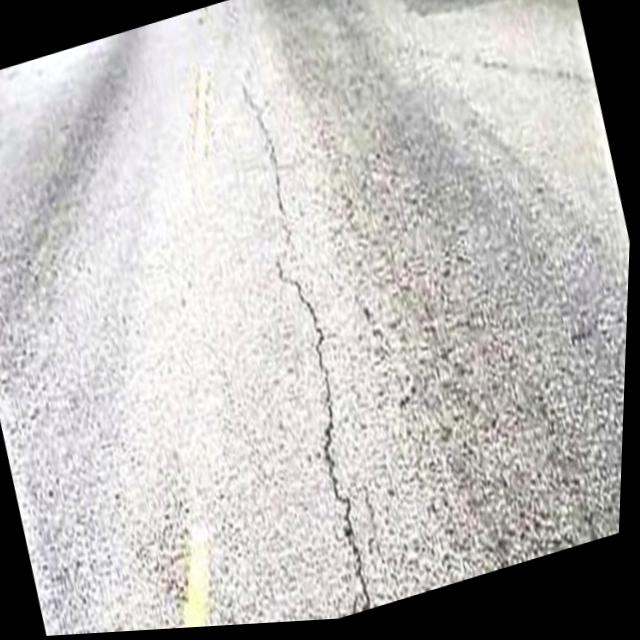Crack: (198, 56, 421, 630)
